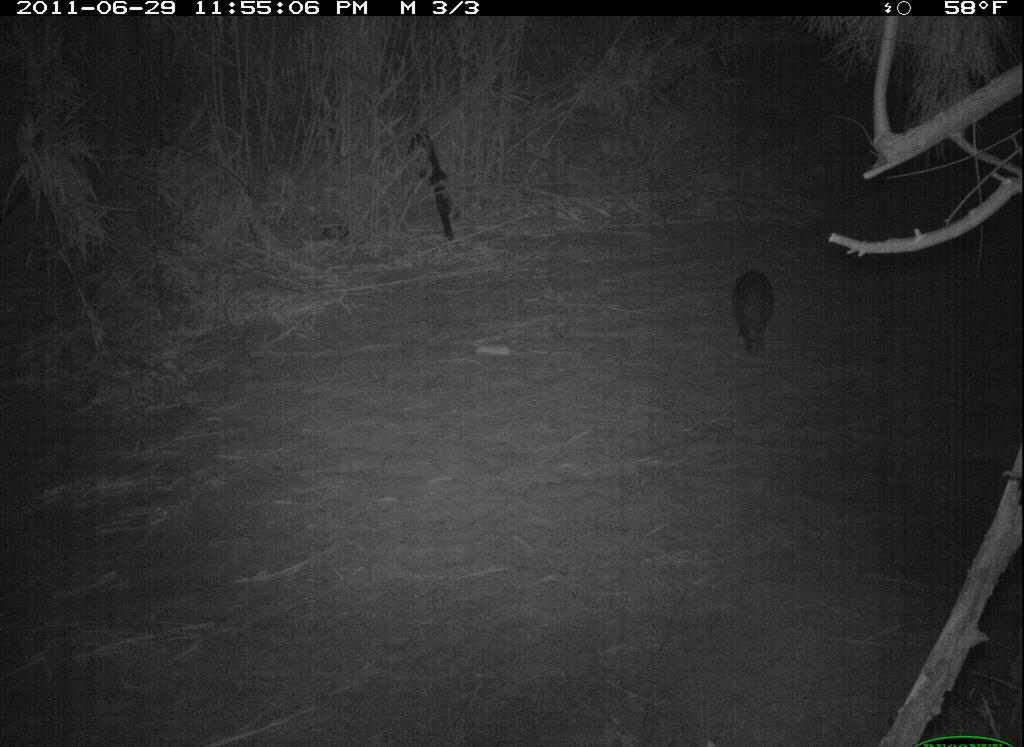raccoon: (713, 257, 806, 368)
